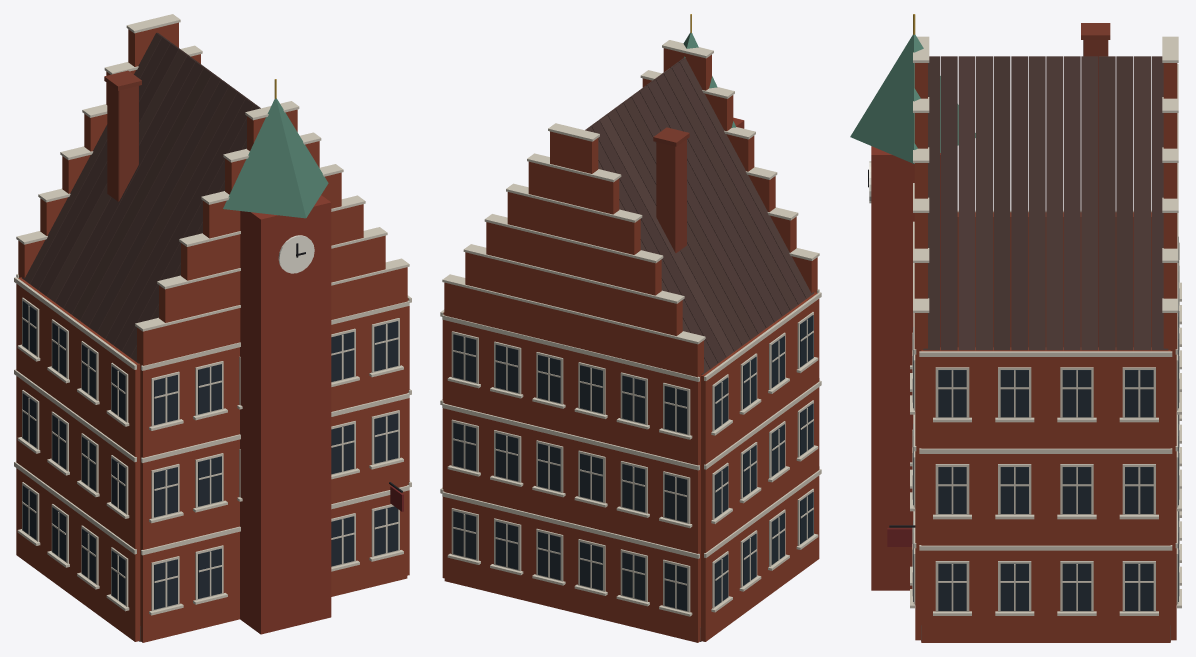
Rendered from townhall_3.glb.
3 views of the same model, side by side, from view 1: azimuth 30°, elevation 25°; view 2: azimuth 150°, elevation 25°; view 3: azimuth 270°, elevation 25° (orthographic). The views are drawn at different scales.
Visible parts, largest first — view 1: townhall3_brick, townhall3_tiles, townhall3_glass, townhall3_stone, townhall3_wood; view 2: townhall3_brick, townhall3_tiles, townhall3_glass, townhall3_stone, townhall3_wood; view 3: townhall3_brick, townhall3_tiles, townhall3_glass, townhall3_stone, townhall3_wood.
Part boxes in pixels (x1=…): townhall3_brick: x1=16, y1=22, x2=409, y2=642; townhall3_tiles: x1=22, y1=32, x2=328, y2=363; townhall3_glass: x1=22, y1=301, x2=398, y2=609; townhall3_stone: x1=14, y1=14, x2=411, y2=641; townhall3_wood: x1=22, y1=297, x2=403, y2=610; townhall3_brick: x1=442, y1=48, x2=819, y2=642; townhall3_tiles: x1=585, y1=33, x2=813, y2=374; townhall3_glass: x1=453, y1=315, x2=813, y2=610; townhall3_stone: x1=440, y1=40, x2=821, y2=641; townhall3_wood: x1=451, y1=312, x2=813, y2=612; townhall3_brick: x1=871, y1=23, x2=1177, y2=642; townhall3_tiles: x1=850, y1=34, x2=1168, y2=350; townhall3_glass: x1=913, y1=237, x2=1178, y2=610; townhall3_stone: x1=869, y1=36, x2=1181, y2=641; townhall3_wood: x1=887, y1=242, x2=1179, y2=611.
Size of the model in its own units: 9.64 by 17.33 by 9.32.
